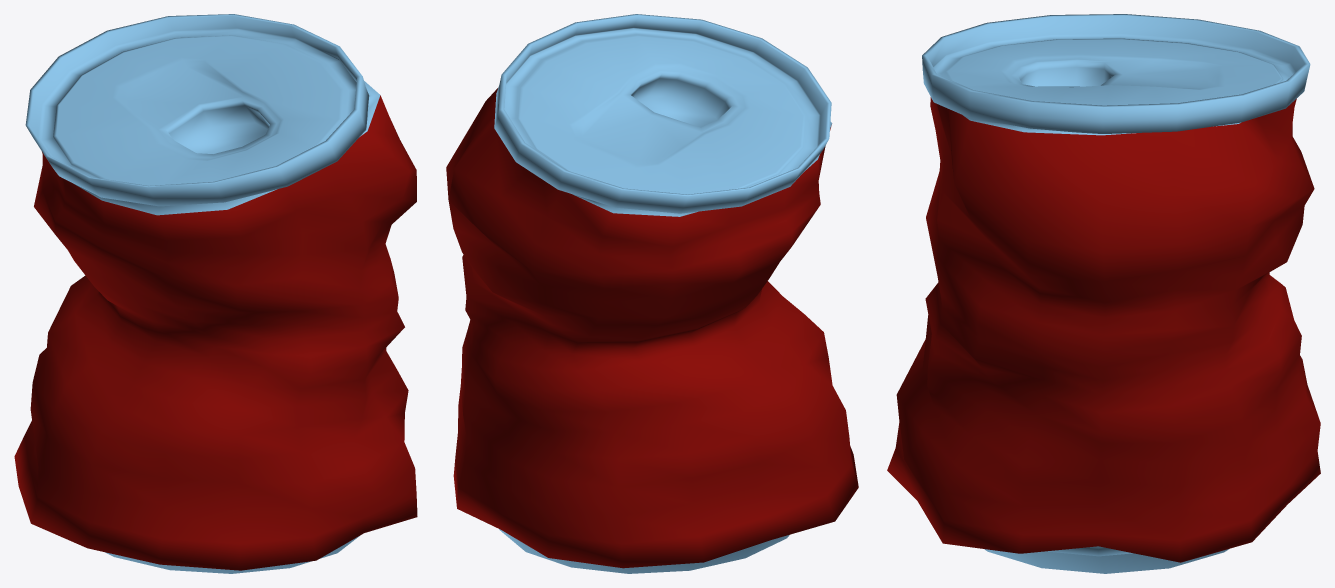
File: Mesh_sodaCan2_Crushed.fbx
The picture shows the model from 3 angles, left to right: view 1: azimuth 30°, elevation 25°; view 2: azimuth 150°, elevation 25°; view 3: azimuth 270°, elevation 25°; orthographic projection. The views are drawn at different scales.
Parts seen in each view (by area): view 1: SodaCan.002; view 2: SodaCan.002; view 3: SodaCan.002.
Boxes of the visible parts, box(x1,y1,x2,y2) form: SodaCan.002: box(14, 14, 417, 573); SodaCan.002: box(446, 14, 858, 573); SodaCan.002: box(887, 14, 1320, 573).
Size of the model in its own units: 8.31 by 9.48 by 8.09.
